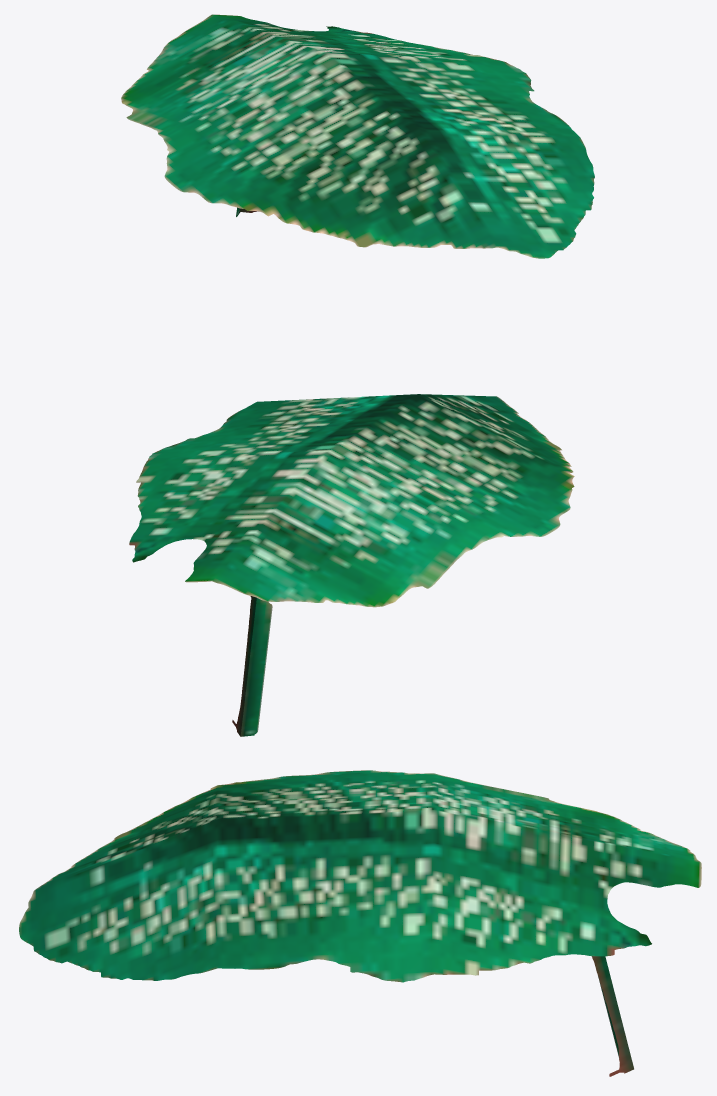
File: Plant Two-Sided.fbx
3 views of the same model, one above another, from view 1: azimuth 30°, elevation 25°; view 2: azimuth 150°, elevation 25°; view 3: azimuth 270°, elevation 25° (orthographic). The views are drawn at different scales.
Visible parts, largest first — view 1: Plant Two-Sided; view 2: Plant Two-Sided; view 3: Plant Two-Sided.
Boxes of the visible parts, x1,y1,x2,y2 form: Plant Two-Sided: [121, 14, 594, 258]; Plant Two-Sided: [129, 394, 574, 736]; Plant Two-Sided: [19, 770, 701, 1076].
Bounding box in the file's own units: 2.75 × 3.56 × 1.47.
1 material, 1 textured.
